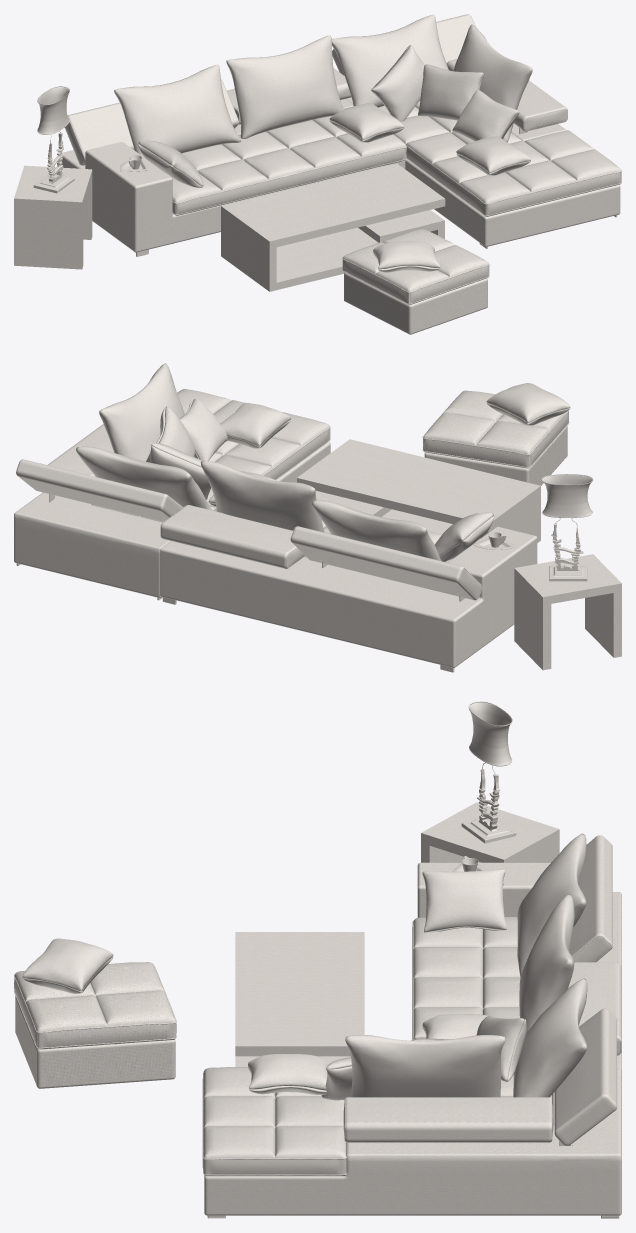
File: sofa (1).glb
3 views of the same model, one above another, from view 1: azimuth 30°, elevation 25°; view 2: azimuth 150°, elevation 25°; view 3: azimuth 270°, elevation 25° (orthographic). The views are drawn at different scales.
Bounding box in the file's own units: 168 × 49.18 × 131.
1 material, 1 textured.
